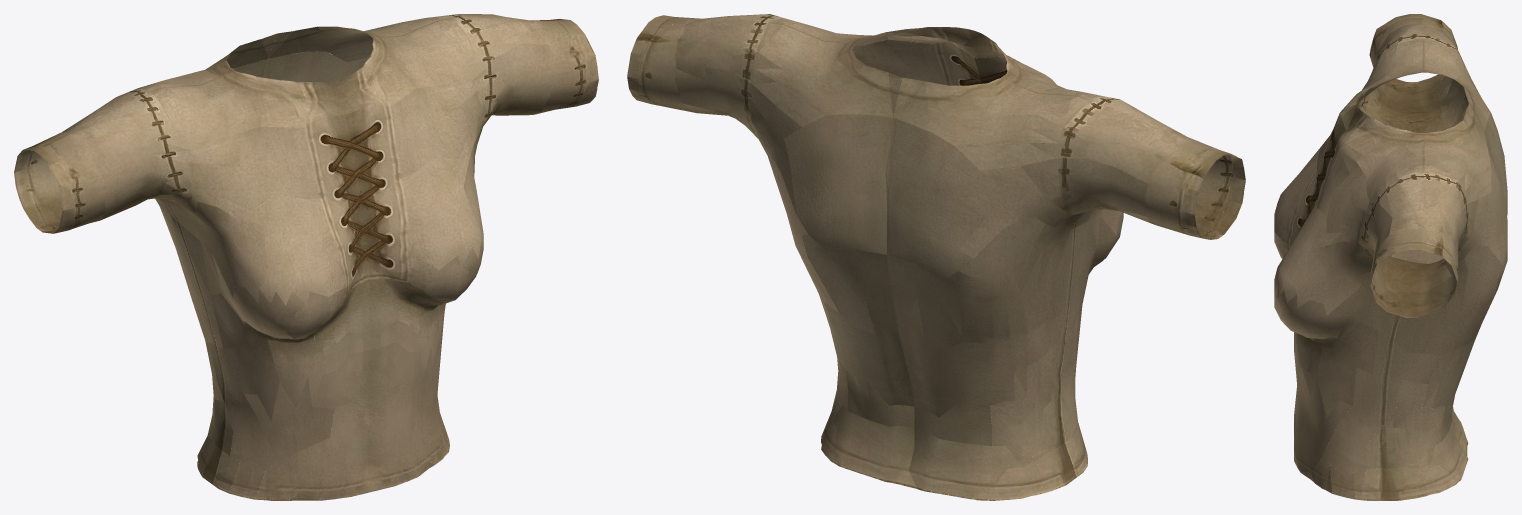
File: DefaultUpperbodyFemale.glb
The picture shows the model from 3 angles, left to right: view 1: azimuth 30°, elevation 25°; view 2: azimuth 150°, elevation 25°; view 3: azimuth 270°, elevation 25°; orthographic projection. The views are drawn at different scales.
Parts seen in each view (by area): view 1: Mesh_0.002; view 2: Mesh_0.002; view 3: Mesh_0.002.
Part boxes in pixels (x1,y1,x2,y2): Mesh_0.002: (14,14,598,500); Mesh_0.002: (627,14,1245,500); Mesh_0.002: (1274,14,1507,500).
Size of the model in its own units: 2 by 1.38 by 0.837.
Materials: 1 (1 with a texture image).
